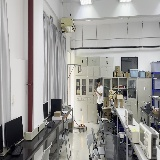fire: (80, 109, 84, 126)
